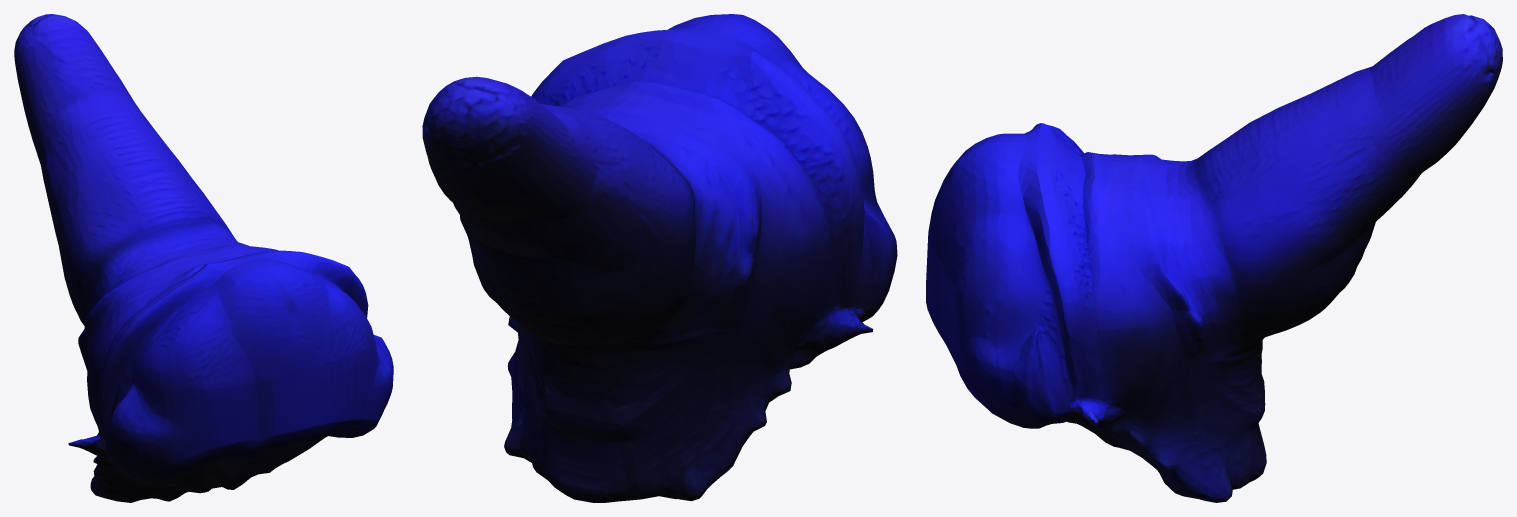
The picture shows the model from 3 angles, left to right: view 1: azimuth 30°, elevation 25°; view 2: azimuth 150°, elevation 25°; view 3: azimuth 270°, elevation 25°; orthographic projection. The views are drawn at different scales.
Visible parts, largest first — view 1: world; view 2: world; view 3: world.
Part boxes in pixels (bbox=[...]): world: bbox=[14, 14, 393, 502]; world: bbox=[422, 14, 897, 502]; world: bbox=[926, 14, 1502, 502].
Size of the model in its own units: 0.5443 by 0.6588 by 0.769.
1 material, 1 textured.
